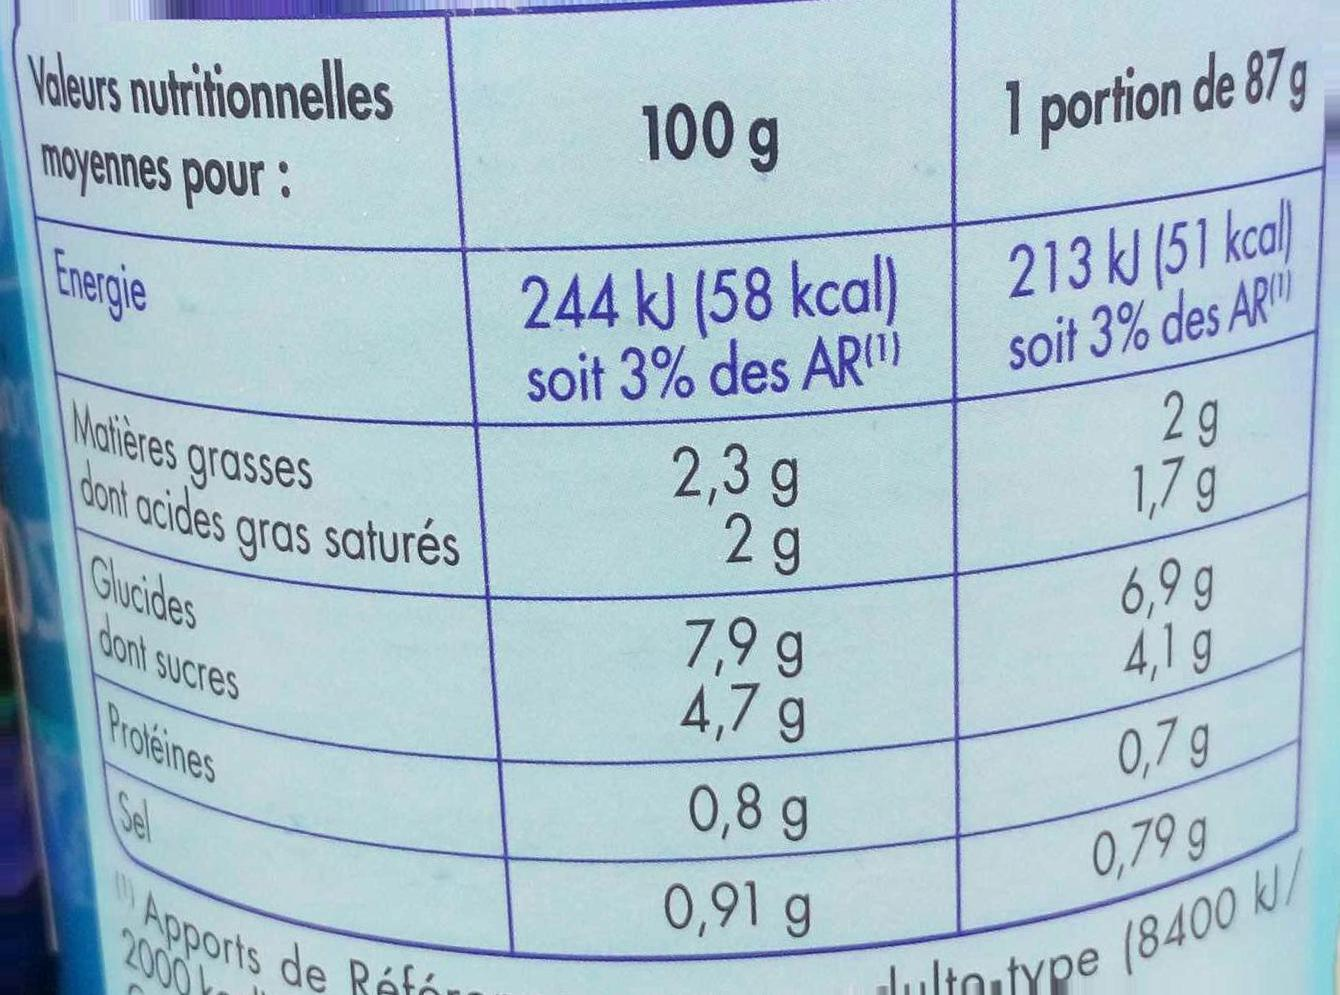column: (21, 62, 459, 862), (519, 98, 901, 942), (984, 40, 1304, 873)
table: (8, 24, 1340, 971)
